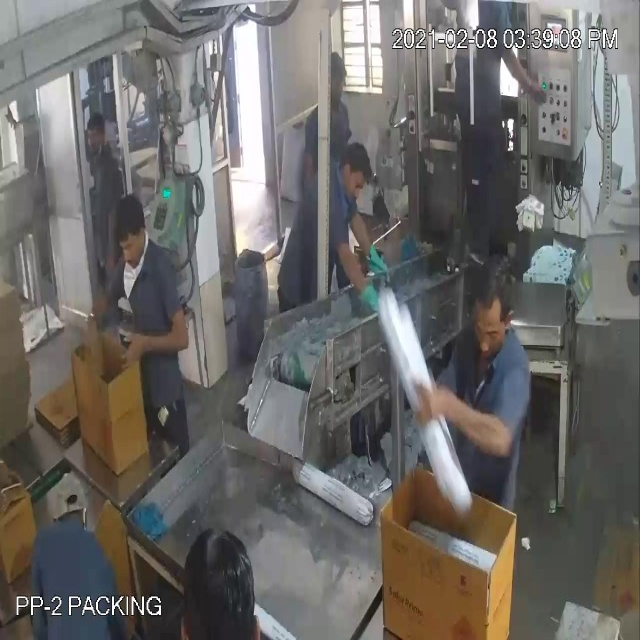Guantes: (336, 237, 389, 327), (495, 33, 555, 110)
Sin_guantes: (406, 380, 514, 466), (116, 300, 197, 373)
